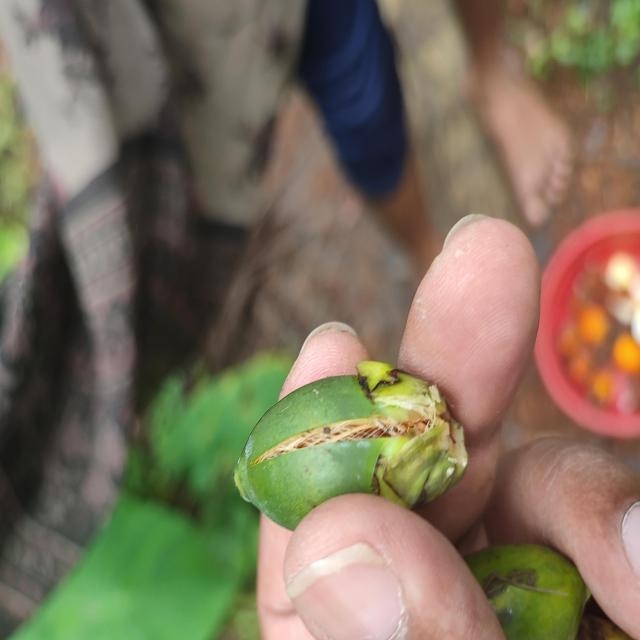damaged: (232, 360, 470, 534)
